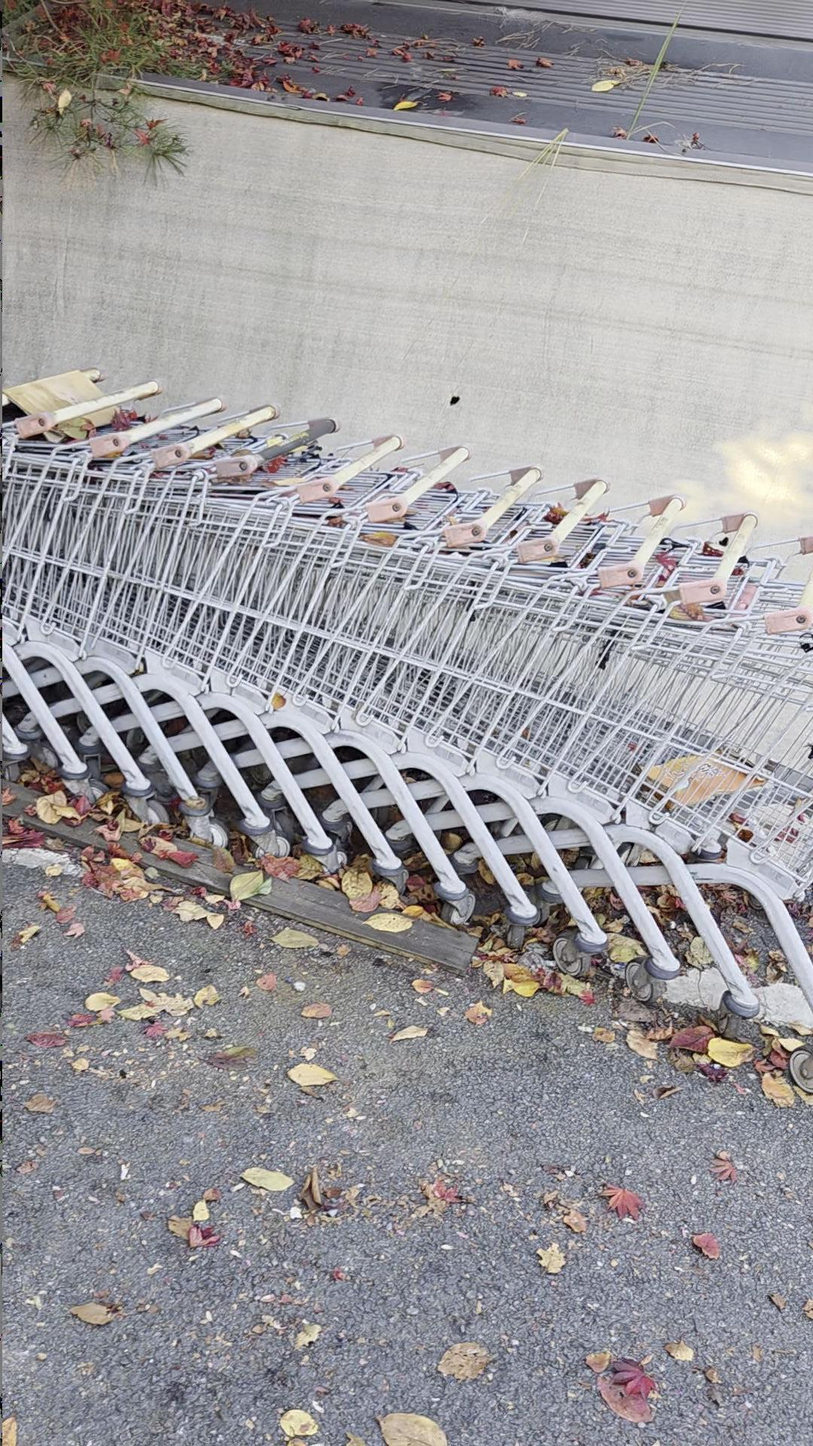combined_cart: (3, 365, 812, 1106)
